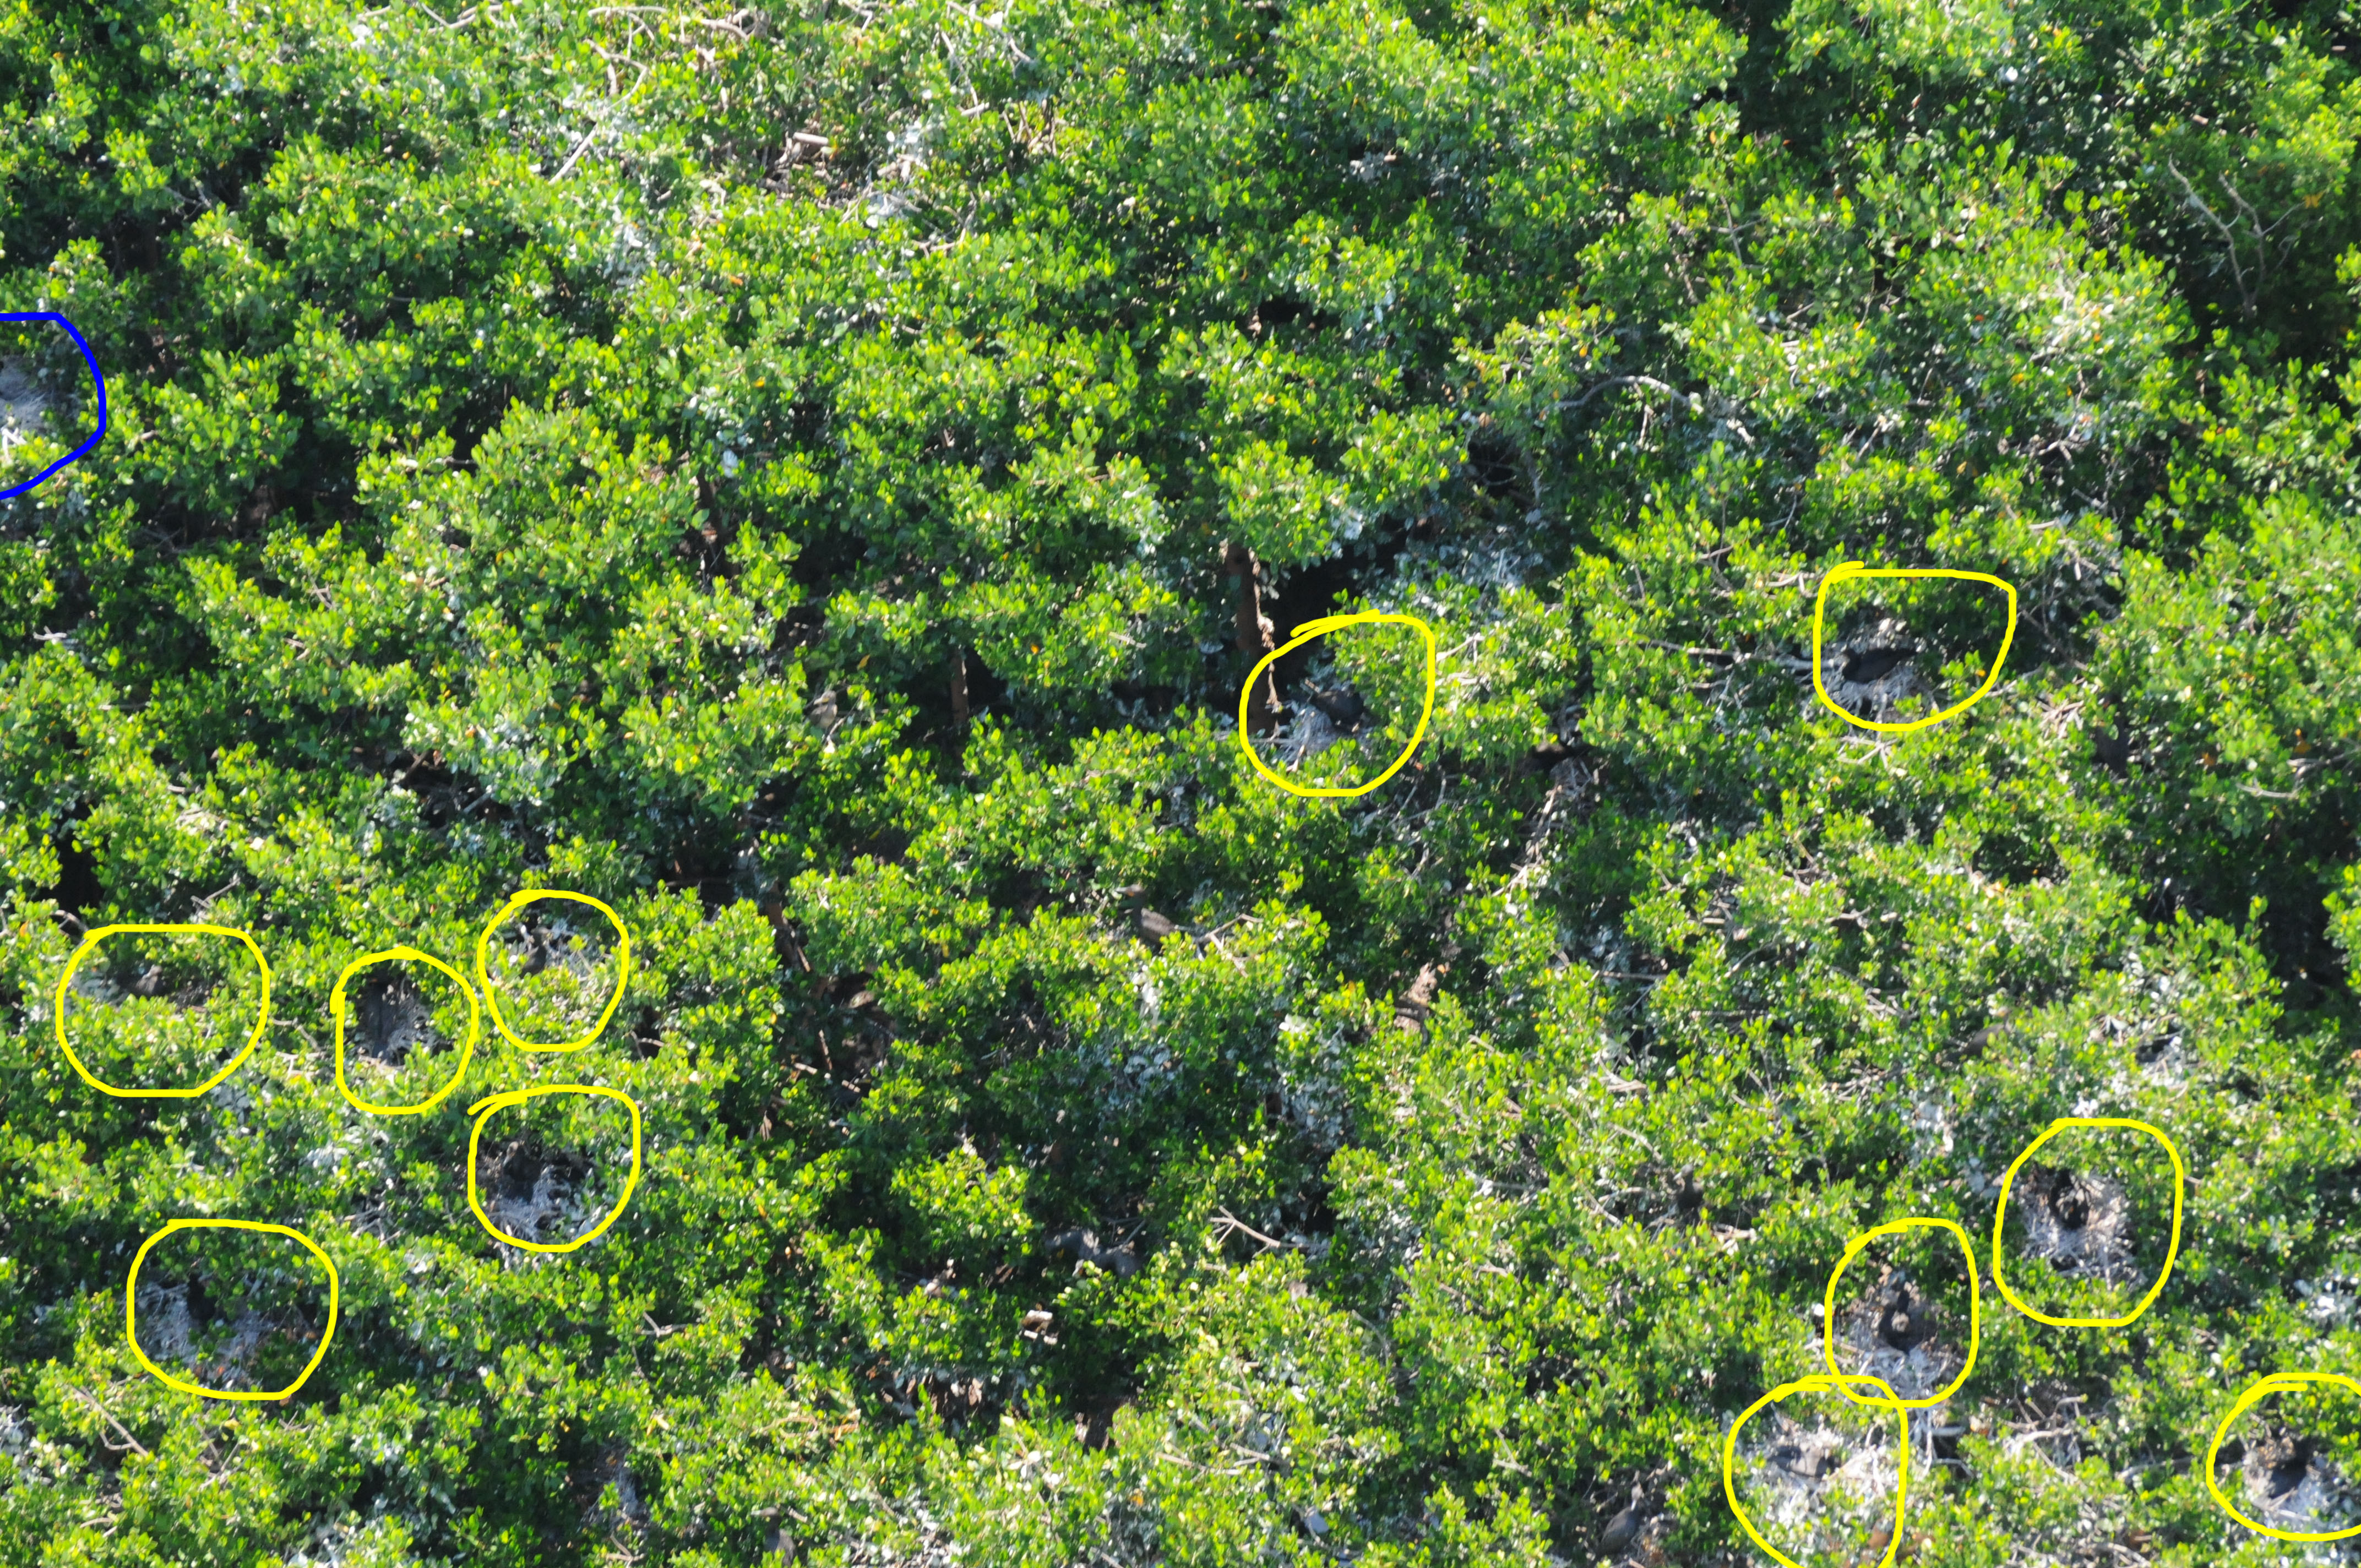nest: (1724, 1218, 1978, 1568), (1993, 1118, 2182, 1328), (126, 1220, 338, 1400), (56, 924, 271, 1097), (1239, 609, 1437, 796), (1813, 562, 2016, 735), (467, 1085, 641, 1251), (2207, 1372, 2361, 1540), (329, 945, 480, 1113), (476, 889, 628, 1052), (0, 313, 105, 499)
